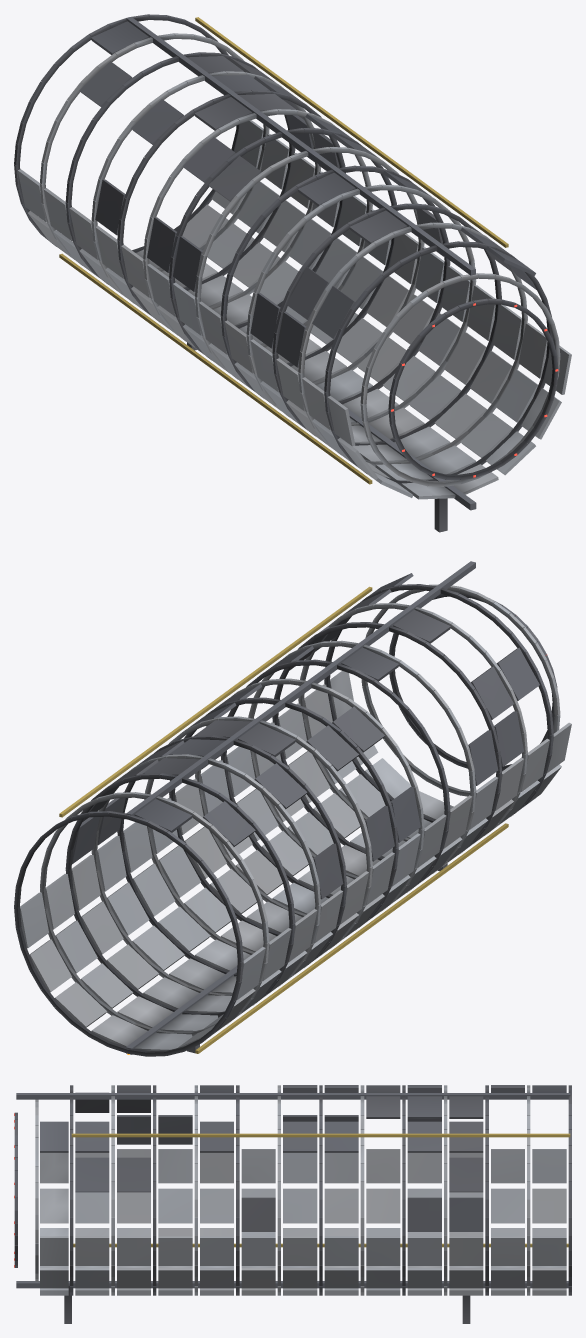
File: 04_hull_spine.glb
The picture shows the model from 3 angles, top to bottom: view 1: azimuth 30°, elevation 25°; view 2: azimuth 150°, elevation 25°; view 3: azimuth 270°, elevation 25°; orthographic projection. The views are drawn at different scales.
Parts seen in each view (by area): view 1: hull_spine_shiphull, hull_spine_hulldark, hull_spine_truss; view 2: hull_spine_shiphull, hull_spine_hulldark, hull_spine_truss; view 3: hull_spine_shiphull, hull_spine_hulldark, hull_spine_truss.
Boxes of the visible parts, x1,y1,x2,y2 form: hull_spine_shiphull: (18, 33, 571, 499); hull_spine_hulldark: (14, 14, 558, 532); hull_spine_truss: (59, 17, 508, 484); hull_spine_shiphull: (20, 584, 571, 1051); hull_spine_hulldark: (14, 561, 557, 1056); hull_spine_truss: (59, 586, 508, 1053); hull_spine_shiphull: (35, 1085, 566, 1295); hull_spine_hulldark: (14, 1085, 571, 1323); hull_spine_truss: (71, 1133, 570, 1247).
Size of the model in its own units: 61 by 72.7 by 161.
